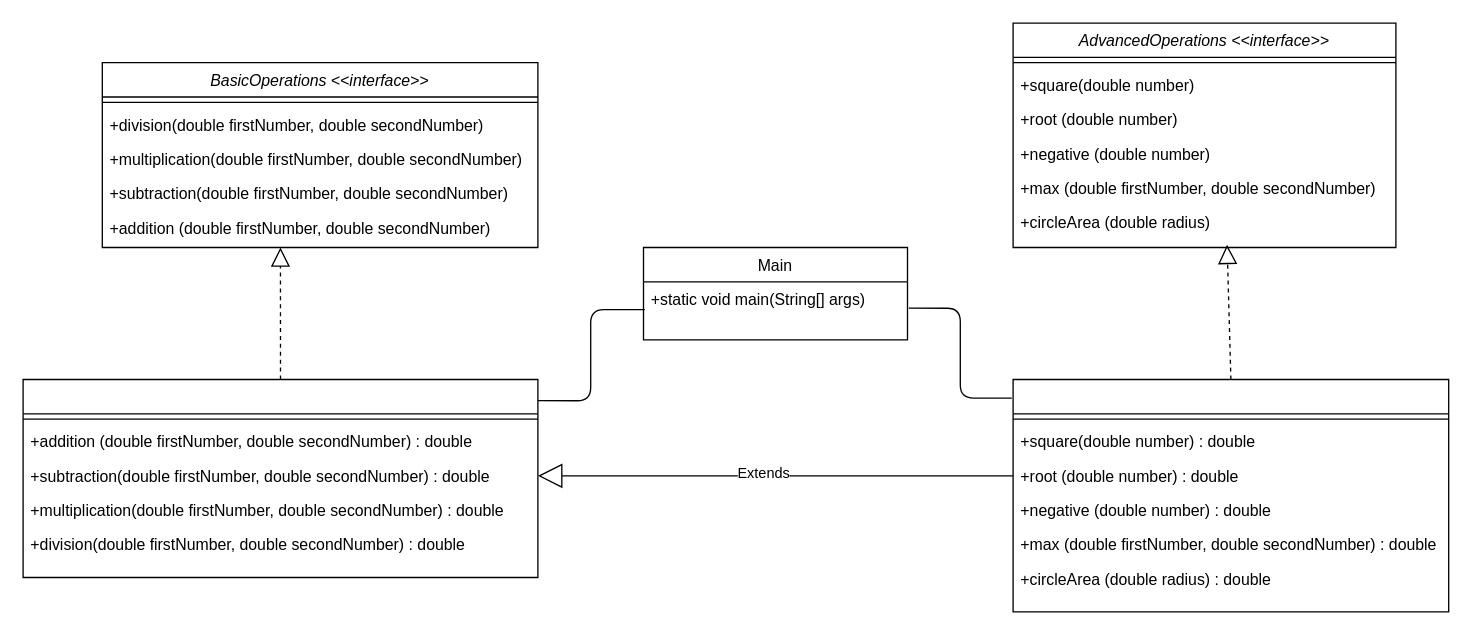
The diagram is 1472 pixels wide and 635 high, and some of its shapes have lost their labels. The box of each missing label's shape, as (x1, y1, x2, y2) in pixels:
AdvancedCalculator: (1012, 378, 1449, 612)
BasicCalculator: (22, 378, 538, 578)
